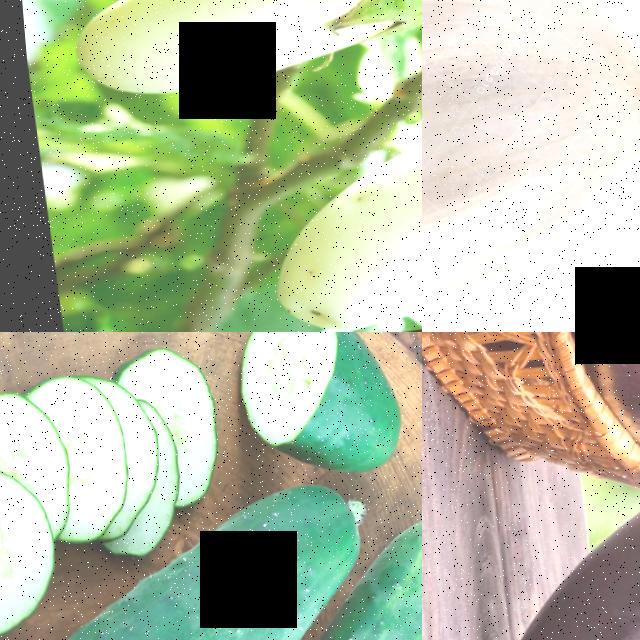cucumber: (0, 497, 388, 640), (227, 332, 409, 495), (341, 524, 422, 640)
eggplant: (438, 441, 640, 640), (60, 0, 422, 111), (246, 107, 422, 332), (560, 332, 640, 472)
garlic: (422, 0, 640, 332)
